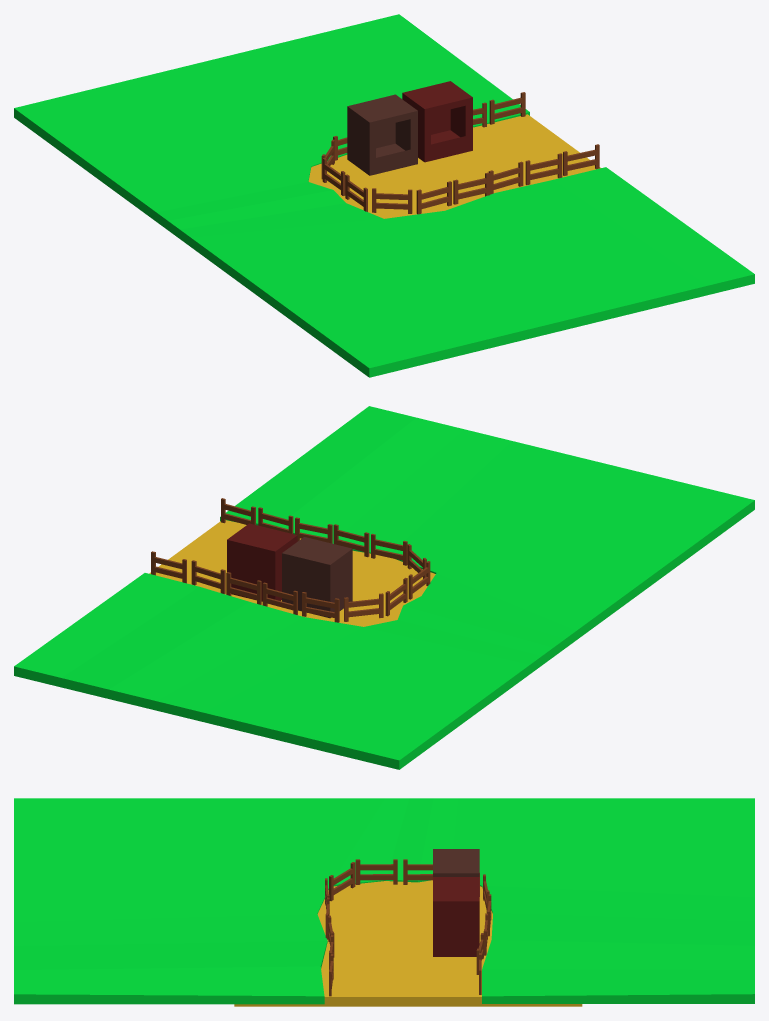
The model's file is TestingCamp.fbx.
3 views of the same model, one above another, from view 1: azimuth 30°, elevation 25°; view 2: azimuth 150°, elevation 25°; view 3: azimuth 270°, elevation 25° (orthographic). The views are drawn at different scales.
Parts seen in each view (by area): view 1: Cube.001, Cube, Cube.016, Cube.017, Cube.010, Cube.014, Cube.002, Cube.012, Cube.011, Cube.015; view 2: Cube.001, Cube, Cube.016, Cube.017, Cube.007, Cube.006, Cube.011, Cube.003; view 3: Cube.001, Cube, Cube.017, Cube.016, Cube.009, Cube.010, Cube.008.
Part boxes in pixels (x1,y1,x2,y2): Cube.001: (14, 14, 754, 377); Cube: (308, 114, 600, 218); Cube.016: (347, 94, 417, 175); Cube.017: (402, 81, 472, 162); Cube.010: (372, 188, 412, 213); Cube.014: (525, 153, 562, 185); Cube.002: (489, 92, 525, 124); Cube.012: (453, 172, 489, 204); Cube.011: (416, 181, 451, 214); Cube.015: (563, 144, 599, 175); Cube.001: (14, 406, 754, 769); Cube: (149, 520, 435, 626); Cube.016: (282, 537, 352, 618); Cube.017: (227, 523, 297, 601); Cube.007: (344, 593, 383, 621); Cube.006: (302, 592, 339, 622); Cube.011: (371, 533, 407, 565); Cube.003: (191, 560, 225, 593); Cube.001: (14, 798, 754, 1004); Cube: (234, 880, 582, 1006); Cube.017: (433, 877, 479, 956); Cube.016: (433, 849, 479, 876); Cube.009: (355, 859, 397, 884); Cube.010: (329, 862, 355, 901); Cube.008: (403, 859, 432, 884).
Size of the model in its own units: 8502 by 1323 by 13571.
